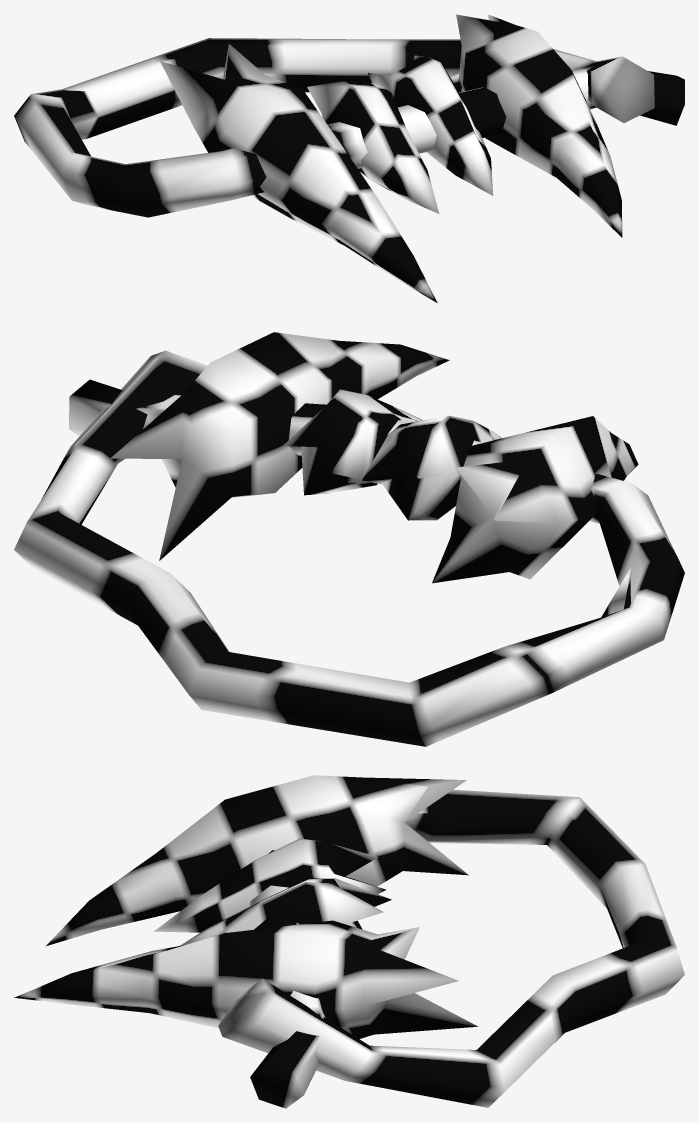
Rendered from initlitr25.dae.
3 views of the same model, one above another, from view 1: azimuth 30°, elevation 25°; view 2: azimuth 150°, elevation 25°; view 3: azimuth 270°, elevation 25° (orthographic). The views are drawn at different scales.
Visible parts, largest first — view 1: item; view 2: item; view 3: item.
Part boxes in pixels (<box>): item: <box>14,14,684,302</box>; item: <box>14,332,684,746</box>; item: <box>14,775,684,1108</box>.
Size of the model in its own units: 1.66 by 1.63 by 0.4174.
1 material, 1 textured.
